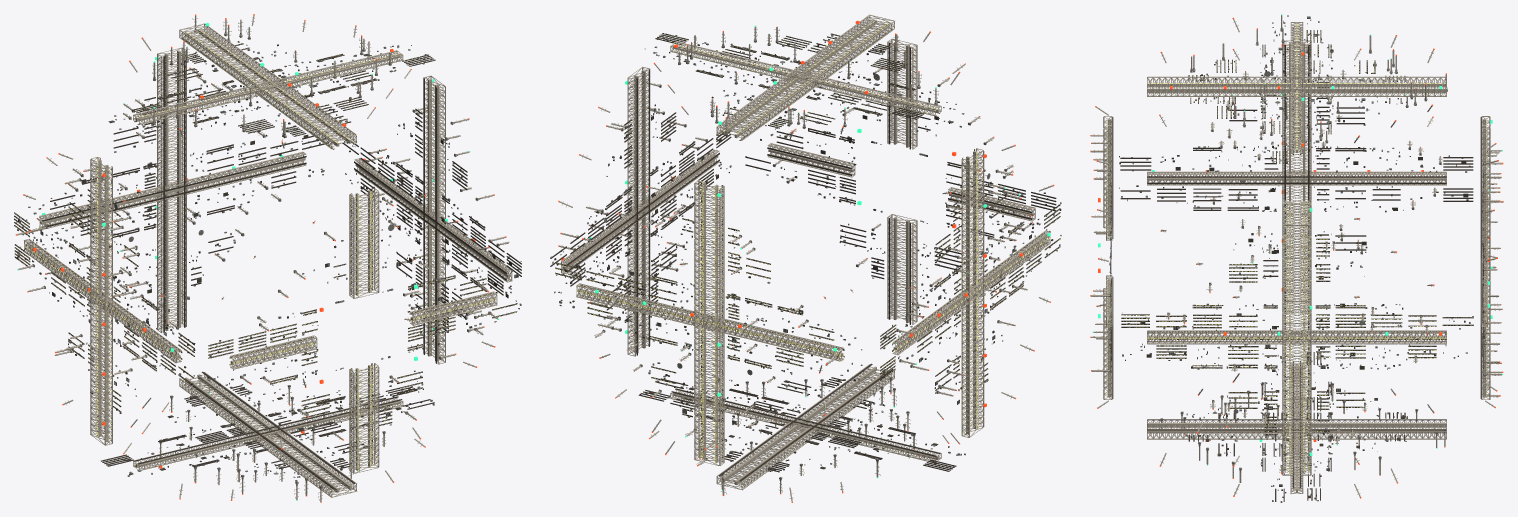
Rendered from coriolis-detail.glb.
3 views of the same model, side by side, from view 1: azimuth 30°, elevation 25°; view 2: azimuth 150°, elevation 25°; view 3: azimuth 270°, elevation 25° (orthographic). The views are drawn at different scales.
Parts seen in each view (by area): view 1: scale-detail-truss-paint, scale-detail-recess-and-radiator, scale-detail-structural-graphite, scale-detail-habitation-amber, scale-detail-worn-alloy, scale-detail-maintenance-white, scale-detail-navigation-red; view 2: scale-detail-truss-paint, scale-detail-recess-and-radiator, scale-detail-structural-graphite, scale-detail-habitation-amber, scale-detail-worn-alloy, scale-detail-maintenance-white, scale-detail-navigation-red; view 3: scale-detail-truss-paint, scale-detail-recess-and-radiator, scale-detail-habitation-amber, scale-detail-structural-graphite, scale-detail-worn-alloy, scale-detail-maintenance-white, scale-detail-navigation-red.
Part boxes in pixels (box(x1,y1,x2,y2)): scale-detail-truss-paint: box(17, 15, 512, 501); scale-detail-recess-and-radiator: box(14, 37, 521, 488); scale-detail-structural-graphite: box(15, 29, 521, 489); scale-detail-habitation-amber: box(14, 23, 515, 492); scale-detail-worn-alloy: box(17, 44, 521, 477); scale-detail-maintenance-white: box(14, 29, 511, 493); scale-detail-navigation-red: box(15, 14, 506, 502); scale-detail-truss-paint: box(559, 14, 1052, 501); scale-detail-recess-and-radiator: box(550, 29, 1061, 481); scale-detail-structural-graphite: box(552, 35, 1058, 482); scale-detail-habitation-amber: box(555, 14, 1059, 490); scale-detail-worn-alloy: box(550, 35, 1061, 471); scale-detail-maintenance-white: box(555, 20, 1060, 462); scale-detail-navigation-red: box(558, 20, 1054, 502); scale-detail-truss-paint: box(1091, 15, 1502, 497); scale-detail-recess-and-radiator: box(1109, 17, 1484, 501); scale-detail-habitation-amber: box(1103, 21, 1490, 473); scale-detail-structural-graphite: box(1106, 19, 1487, 502); scale-detail-worn-alloy: box(1109, 15, 1484, 498); scale-detail-maintenance-white: box(1103, 26, 1490, 494); scale-detail-navigation-red: box(1090, 17, 1503, 498).
Bounding box in the file's own units: 911 × 911 × 912.
